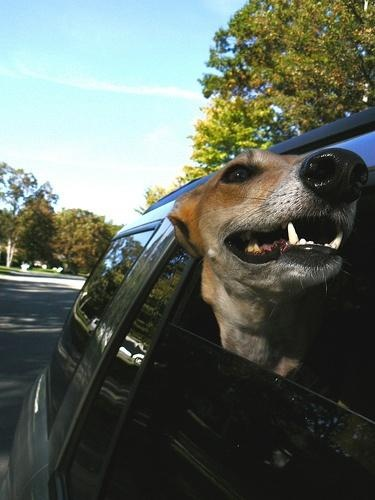dog: (163, 146, 367, 394)
